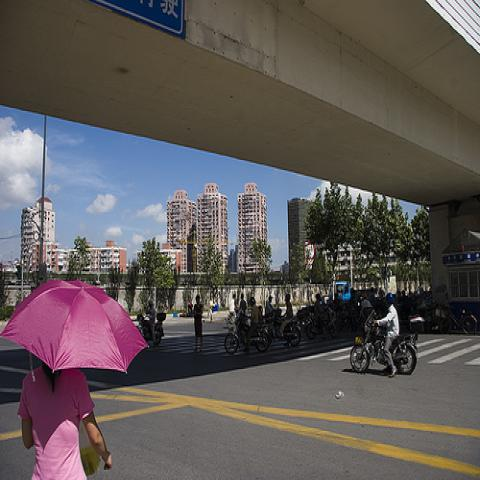motorcycle: (351, 311, 419, 380), (224, 307, 270, 355), (304, 303, 341, 339), (271, 308, 302, 347), (136, 315, 166, 346), (228, 312, 236, 332)
